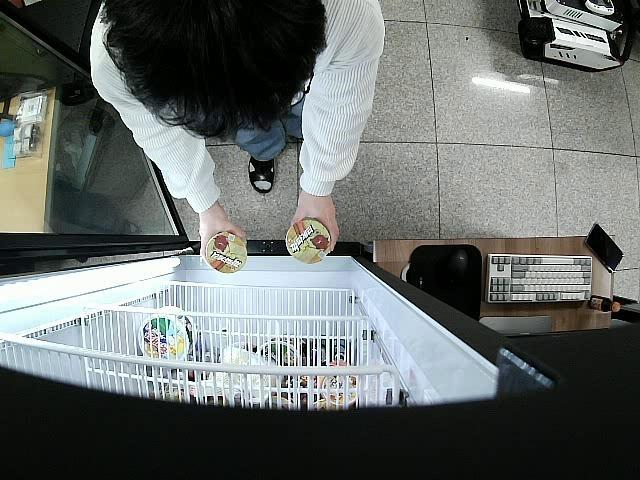04_chapagetti_S: (286, 220, 332, 264), (206, 233, 248, 274)
